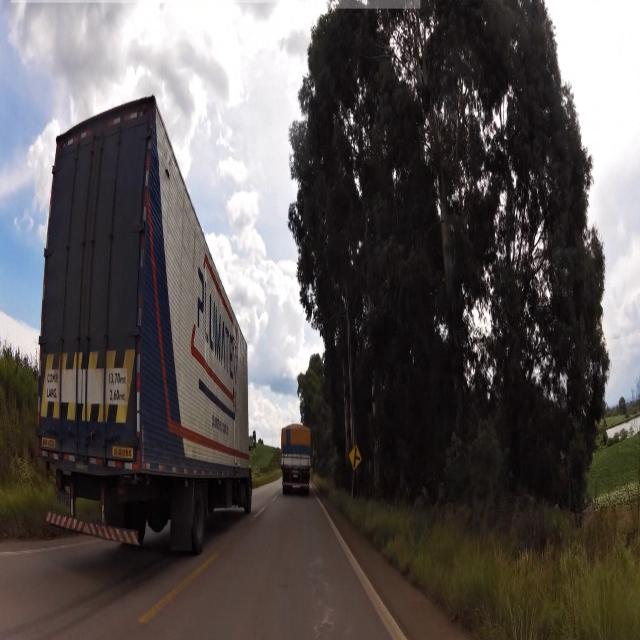A-7b: (349, 443, 363, 470)
